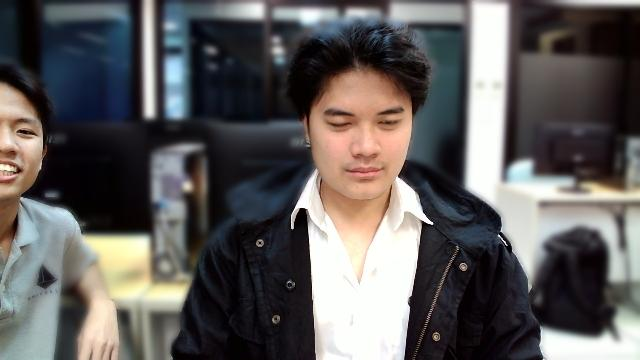fokus: (307, 60, 412, 200)
